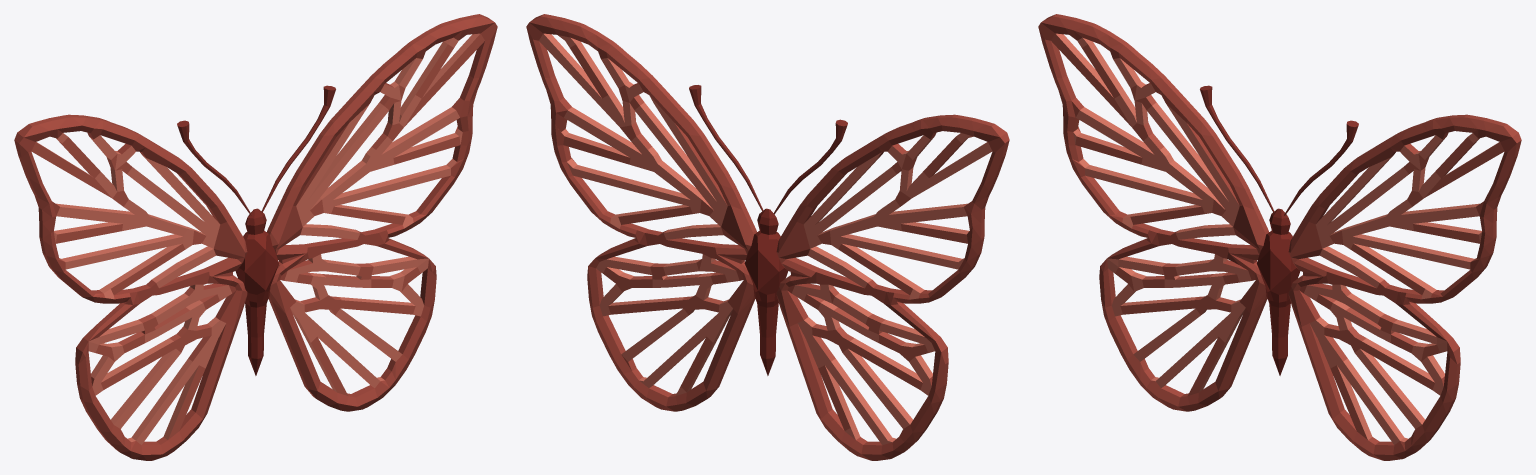
File: WF_LP_HT_Animal_Butterfly.fbx
3 renders of one model, left to right at view 1: azimuth 30°, elevation 25°; view 2: azimuth 150°, elevation 25°; view 3: azimuth 330°, elevation 25°, orthographic.
Parts seen in each view (by area): view 1: WF_LP_HT_Animal_Butterfly; view 2: WF_LP_HT_Animal_Butterfly; view 3: WF_LP_HT_Animal_Butterfly.
Boxes of the visible parts, x1=… form: WF_LP_HT_Animal_Butterfly: x1=14, y1=14, x2=497, y2=460; WF_LP_HT_Animal_Butterfly: x1=526, y1=14, x2=1009, y2=460; WF_LP_HT_Animal_Butterfly: x1=1038, y1=14, x2=1521, y2=460.
Bounding box in the file's own units: 0.2398 × 0.1745 × 0.0171.
